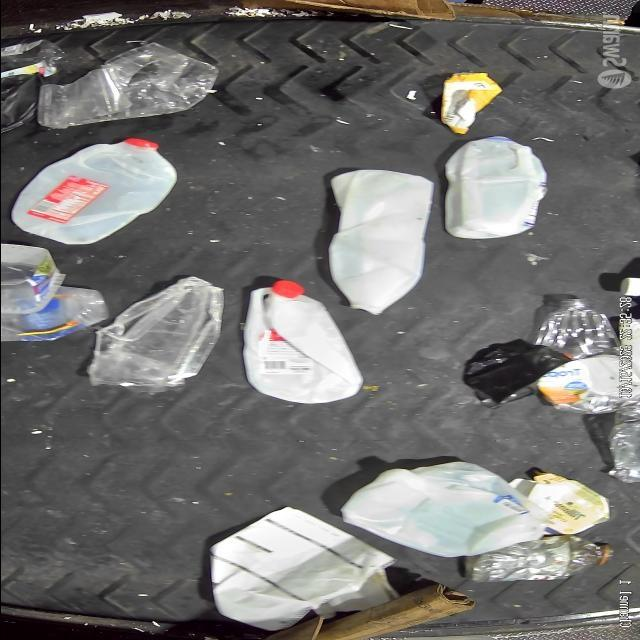milk_jug: (342, 465, 542, 556), (11, 137, 179, 245), (328, 168, 432, 316), (242, 279, 362, 405), (442, 136, 546, 240)
plastic_bottle: (536, 298, 640, 416), (474, 536, 612, 582)
